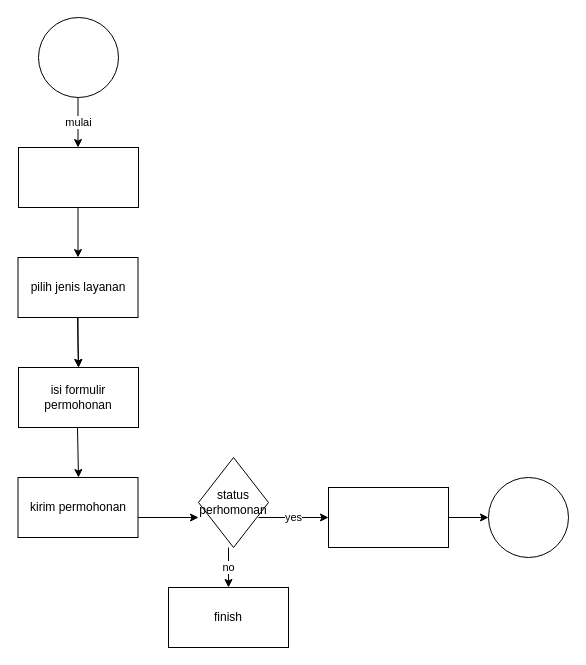
This 586x665 diagram has some shape labels left out. Each missing label, with the centre of its shape:
masyarakat login/daftar: (78,177)
notifikasi ke masyarakat: (388,517)
